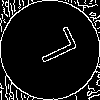L: (25, 25, 78, 70)
